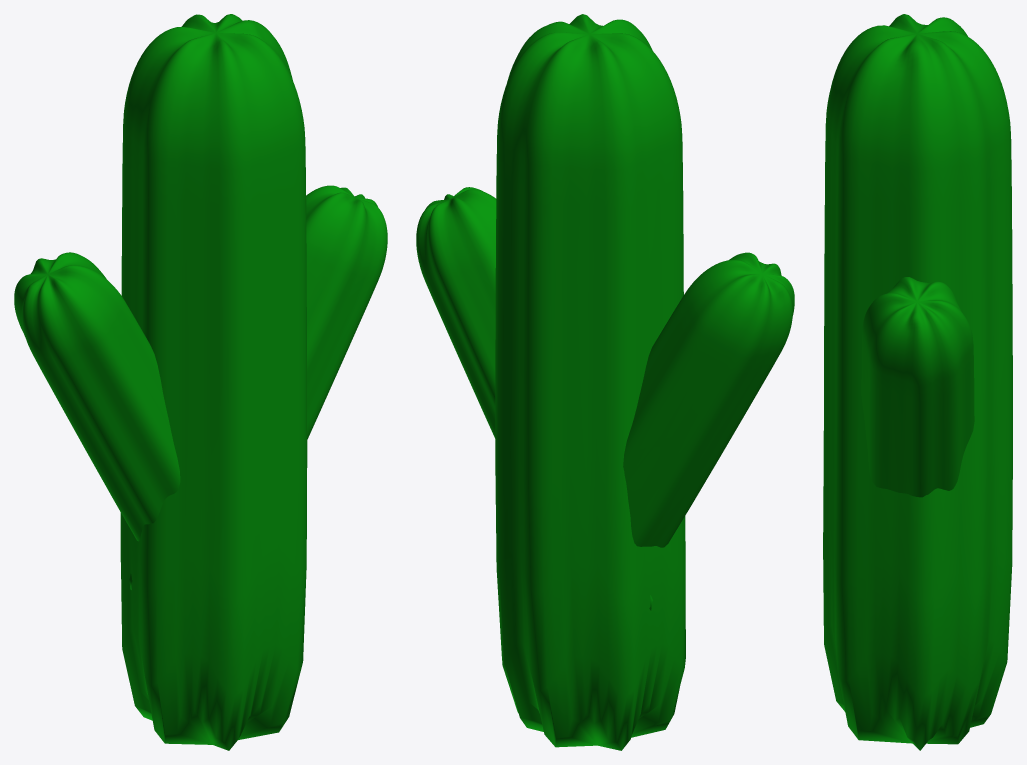
The model's file is desert_cac (1).fbx.
3 views of the same model, side by side, from view 1: azimuth 30°, elevation 25°; view 2: azimuth 150°, elevation 25°; view 3: azimuth 270°, elevation 25° (orthographic).
Visible parts, largest first — view 1: Cylinder.001; view 2: Cylinder.001; view 3: Cylinder.001.
Boxes of the visible parts, x1,y1,x2,y2 form: Cylinder.001: (14,14,387,750); Cylinder.001: (416,14,794,750); Cylinder.001: (823,14,1012,750).
Size of the model in its own units: 677 by 1273 by 306.
